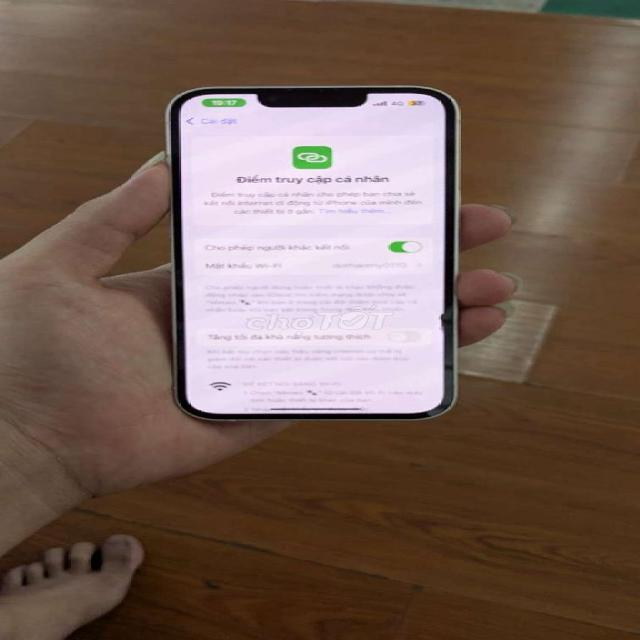screen_defect: (427, 308, 460, 344)
